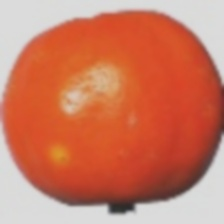tangerine: (1, 28, 198, 222)
